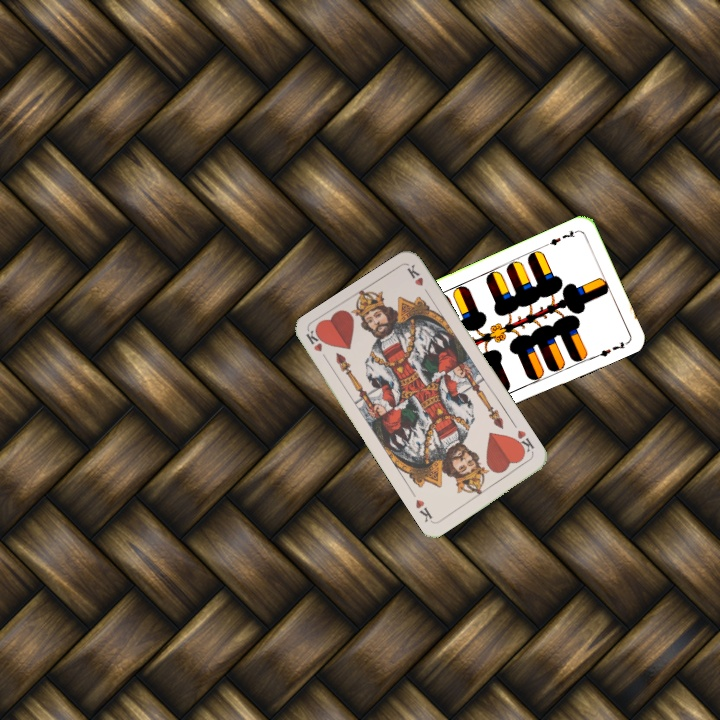E7: (542, 226, 581, 249)
HK: (302, 326, 332, 365), (510, 426, 537, 457)
